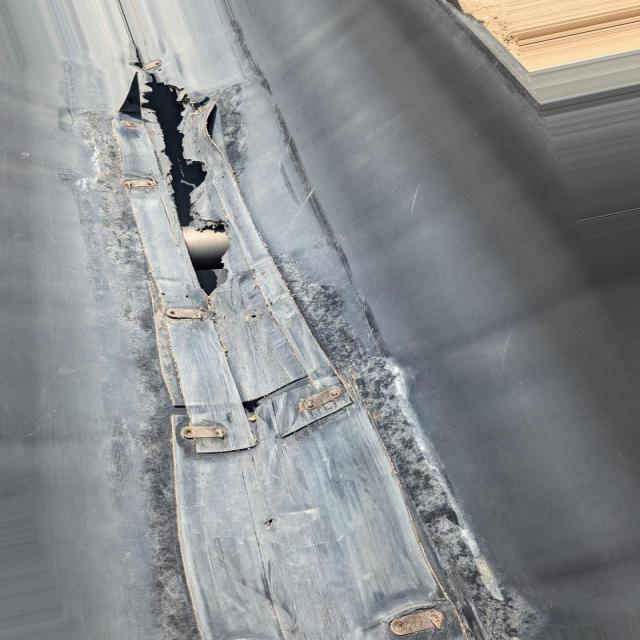Hole: (151, 78, 227, 295)
patch work: (111, 77, 511, 640)
